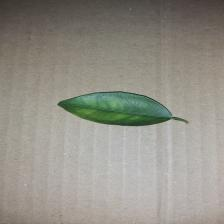greening: (56, 88, 190, 129)
